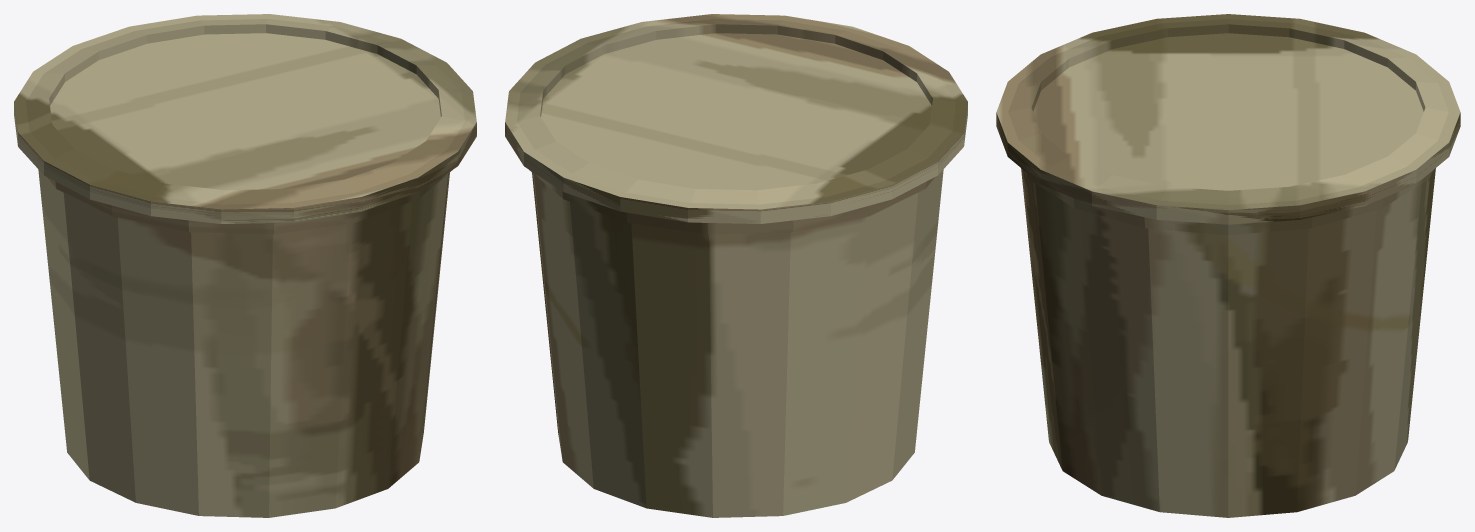
File: SM_tkcontainer2.fbx
3 renders of one model, left to right at view 1: azimuth 30°, elevation 25°; view 2: azimuth 150°, elevation 25°; view 3: azimuth 270°, elevation 25°, orthographic.
Visible parts, largest first — view 1: SM_container; view 2: SM_container; view 3: SM_container.
Boxes of the visible parts, x1,y1,x2,y2 form: SM_container: (14, 14, 476, 517); SM_container: (505, 14, 967, 517); SM_container: (996, 14, 1460, 517).
Bounding box in the file's own units: 12.21 × 9.71 × 12.21.
